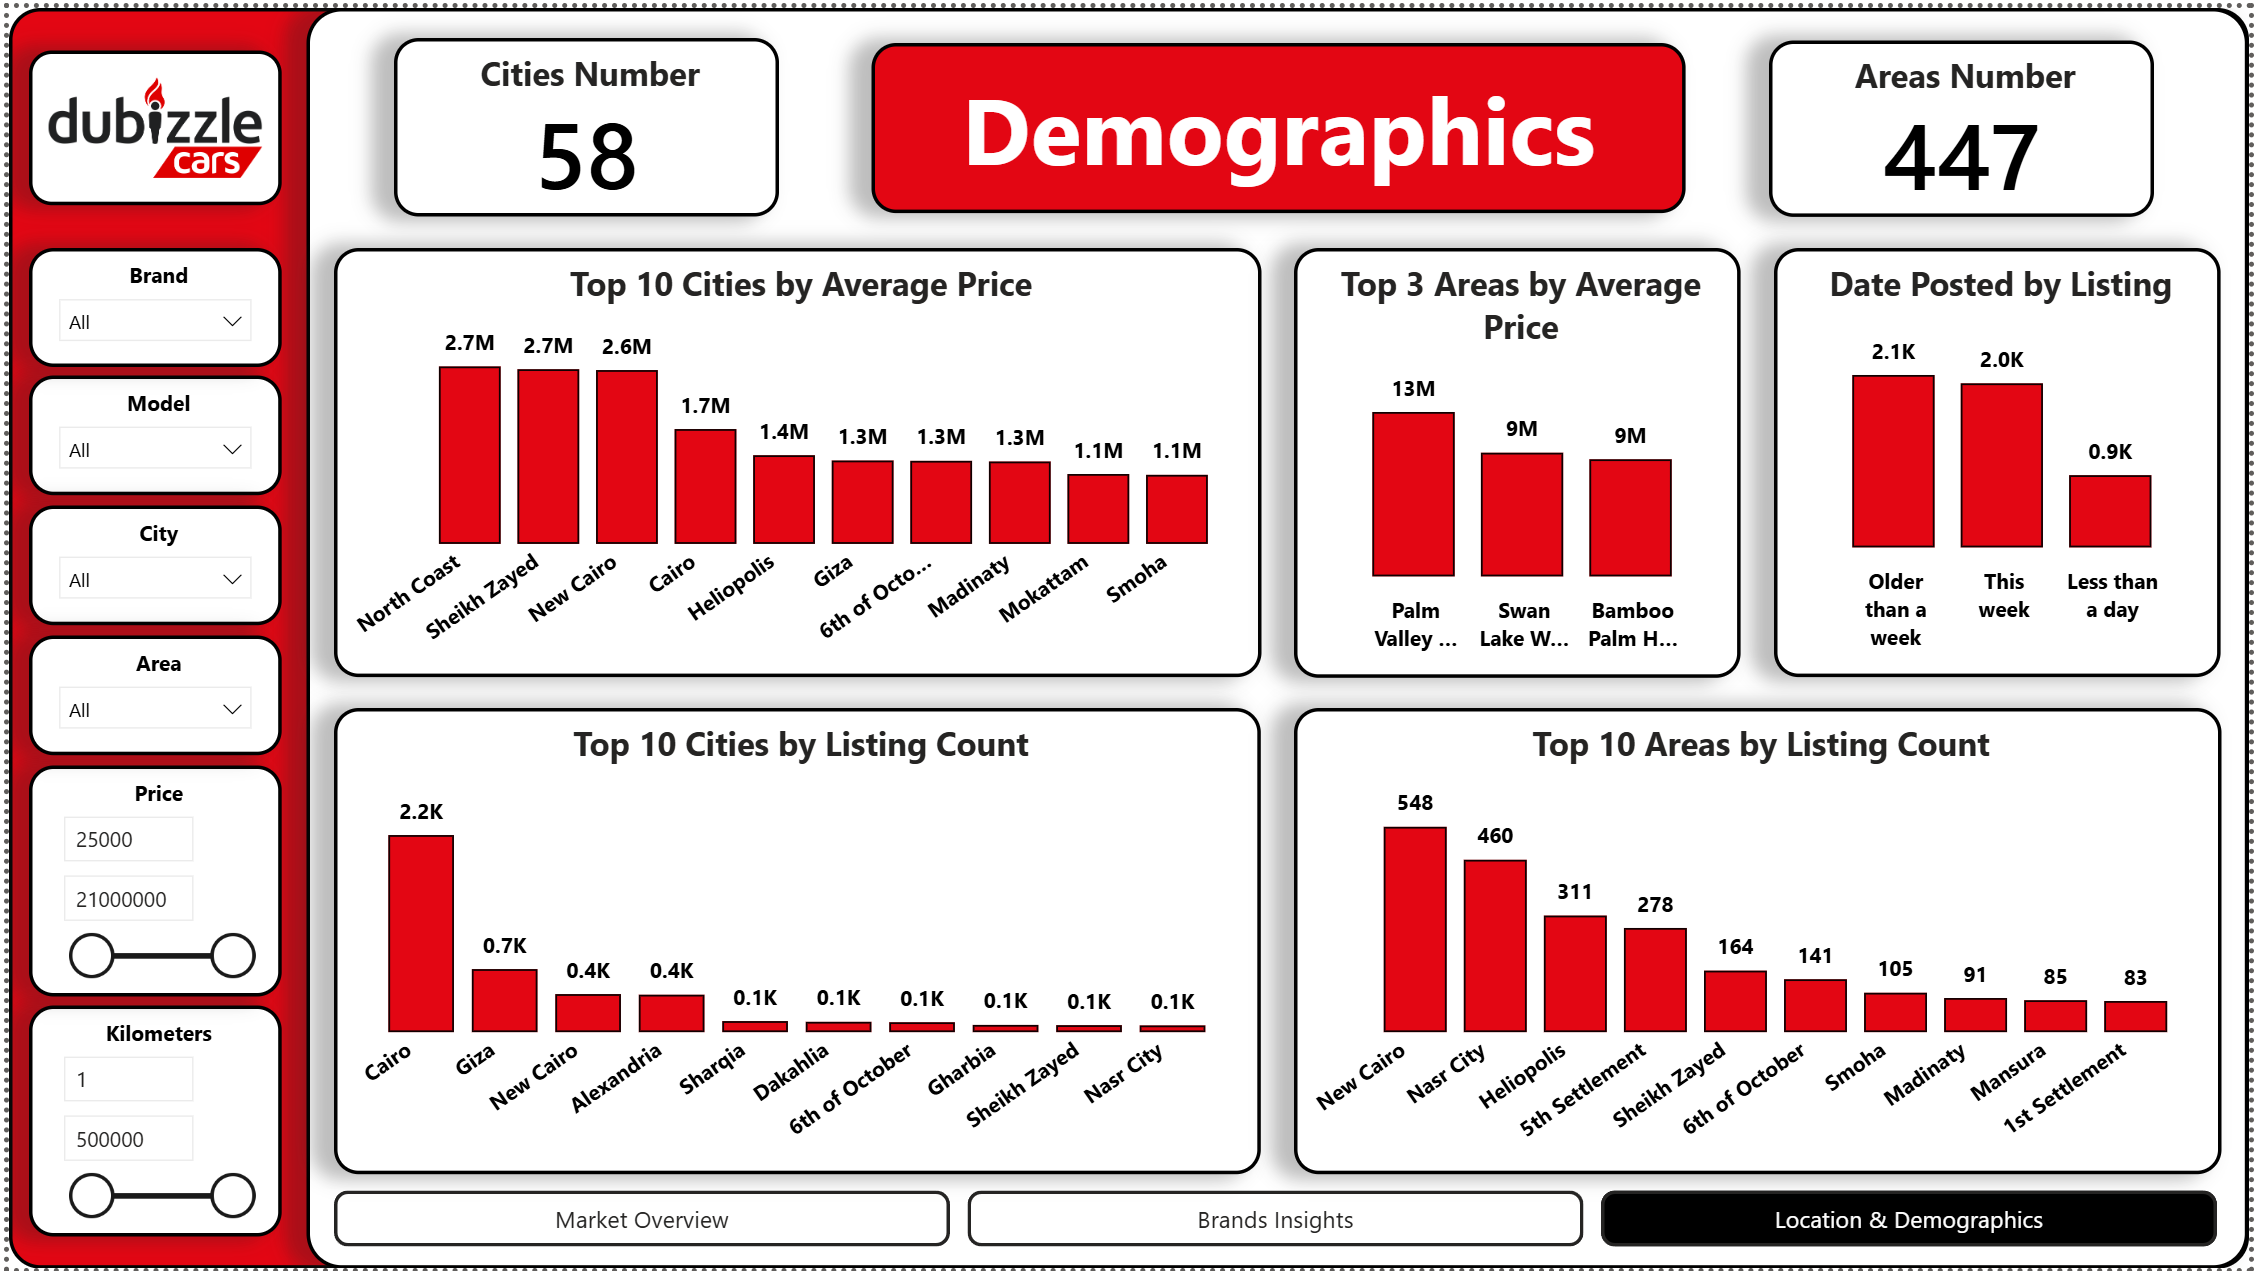

This screenshot's page, from the dashboard's own definition file:
{"tool":"powerbi","page":{"name":"Location & Demographics","canvas":[1280,720],"ordinal":2},"visuals":[{"type":"shape","box":[0,0,1280,720.3],"z":0},{"type":"shape","box":[170.4,0,1109.6,720.3],"z":1000},{"type":"textbox","box":[492.6,19.9,465.2,97],"z":2000},{"type":"card","title":"Cities Number","fields":{"Values":["Count(dubizzle_cleaned_dataset.city)"]},"box":[220.2,17.4,220.2,102],"z":3000},{"type":"card","title":"Areas Number","fields":{"Values":["Count(dubizzle_cleaned_dataset.area)"]},"box":[1006.4,18.7,220.2,100.8],"z":4000},{"type":"pageNavigator","box":[185.3,675.5,1078.5,32.3],"z":5000},{"type":"clusteredColumnChart","title":"Top 10 Cities by Listing Count","fields":{"Y":["Dax_Measures.Total Listings"],"Category":["dubizzle_cleaned_dataset.city"]},"box":[185.2,399.3,529.7,266.2],"z":6000},{"type":"image","box":[11.2,24.9,144.3,88.3],"z":7000},{"type":"clusteredColumnChart","title":"Top 10 Areas by Listing Count","fields":{"Y":["Dax_Measures.Total Listings"],"Category":["dubizzle_cleaned_dataset.area"]},"box":[733.9,399.3,529.9,266.2],"z":8000},{"type":"clusteredColumnChart","title":"Date Posted by Listing","fields":{"Y":["Dax_Measures.Total Listings"],"Category":["dubizzle_cleaned_dataset.date_posted_category"]},"box":[1008.9,136.8,255,245.1],"z":9000},{"type":"clusteredColumnChart","title":"Top 10 Cities by Average Price","fields":{"Category":["dubizzle_cleaned_dataset.city"],"Y":["Avg(dubizzle_cleaned_dataset.price)"]},"box":[185.3,136.8,529.9,245.1],"z":11000},{"type":"clusteredColumnChart","title":"Top 3 Areas by Average Price","fields":{"Category":["dubizzle_cleaned_dataset.area"],"Y":["Avg(dubizzle_cleaned_dataset.price)"]},"box":[734.1,137.2,255.2,245.6],"z":11001},{"type":"slicer","title":"Kilometers","fields":{"Values":["dubizzle_cleaned_dataset.kilometers"]},"box":[11.3,569.7,144.3,131.9],"z":11002},{"type":"slicer","title":"Model","fields":{"Values":["dubizzle_cleaned_dataset.model"]},"box":[11.3,210.4,144.3,68.4],"z":11003},{"type":"slicer","title":"Brand","fields":{"Values":["dubizzle_cleaned_dataset.brand"]},"box":[11.3,136.8,144.3,68],"z":11004},{"type":"slicer","title":"Price","fields":{"Values":["dubizzle_cleaned_dataset.price"]},"box":[11.3,432.3,144.3,131.9],"z":11005},{"type":"slicer","title":"City","fields":{"Values":["dubizzle_cleaned_dataset.city"]},"box":[11.3,284.4,144.3,68.4],"z":11006},{"type":"slicer","title":"Area","fields":{"Values":["dubizzle_cleaned_dataset.area"]},"box":[11.3,358.3,144.3,68.4],"z":11007}]}

Visuals, with their boxes in screenshot pixels (x1, y1, x2, y2), scaled from the page's 1280x720 canvas onto the 2255x1271 screenshot:
shape: <bbox>0, 0, 2254, 1270</bbox>
shape: <bbox>300, 0, 2254, 1270</bbox>
textbox: <bbox>868, 35, 1687, 206</bbox>
"Cities Number" card: <bbox>388, 31, 776, 211</bbox>
"Areas Number" card: <bbox>1773, 33, 2161, 211</bbox>
pageNavigator: <bbox>326, 1192, 2226, 1249</bbox>
"Top 10 Cities by Listing Count" clusteredColumnChart: <bbox>326, 705, 1259, 1175</bbox>
image: <bbox>20, 44, 274, 200</bbox>
"Top 10 Areas by Listing Count" clusteredColumnChart: <bbox>1293, 705, 2226, 1175</bbox>
"Date Posted by Listing" clusteredColumnChart: <bbox>1777, 241, 2227, 674</bbox>
"Top 10 Cities by Average Price" clusteredColumnChart: <bbox>326, 241, 1260, 674</bbox>
"Top 3 Areas by Average Price" clusteredColumnChart: <bbox>1293, 242, 1743, 676</bbox>
"Kilometers" slicer: <bbox>20, 1006, 274, 1239</bbox>
"Model" slicer: <bbox>20, 371, 274, 492</bbox>
"Brand" slicer: <bbox>20, 241, 274, 362</bbox>
"Price" slicer: <bbox>20, 763, 274, 996</bbox>
"City" slicer: <bbox>20, 502, 274, 623</bbox>
"Area" slicer: <bbox>20, 632, 274, 753</bbox>
